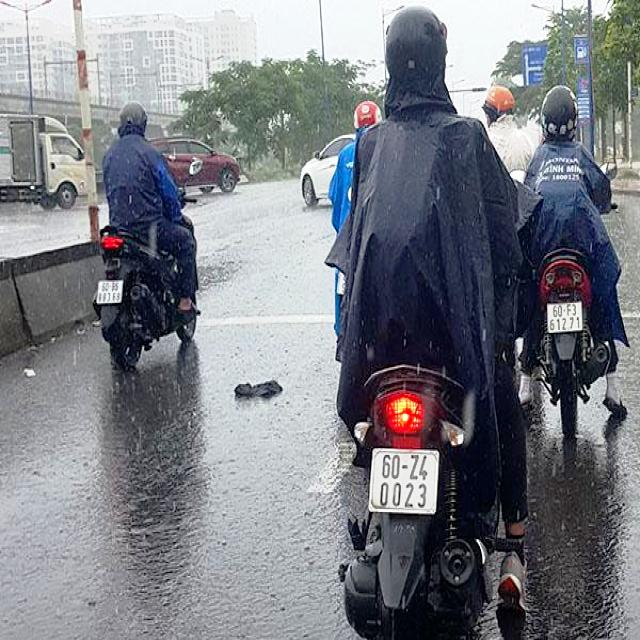license_plate: (372, 451, 440, 513), (549, 303, 583, 333)
